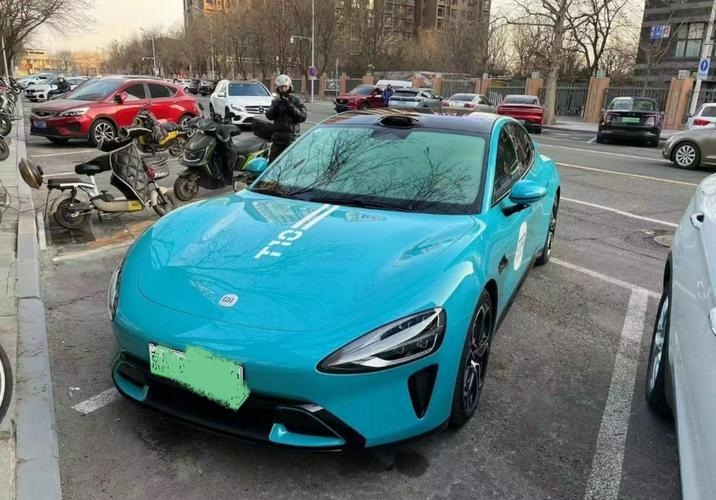XIAOMI: (218, 293, 239, 306)
